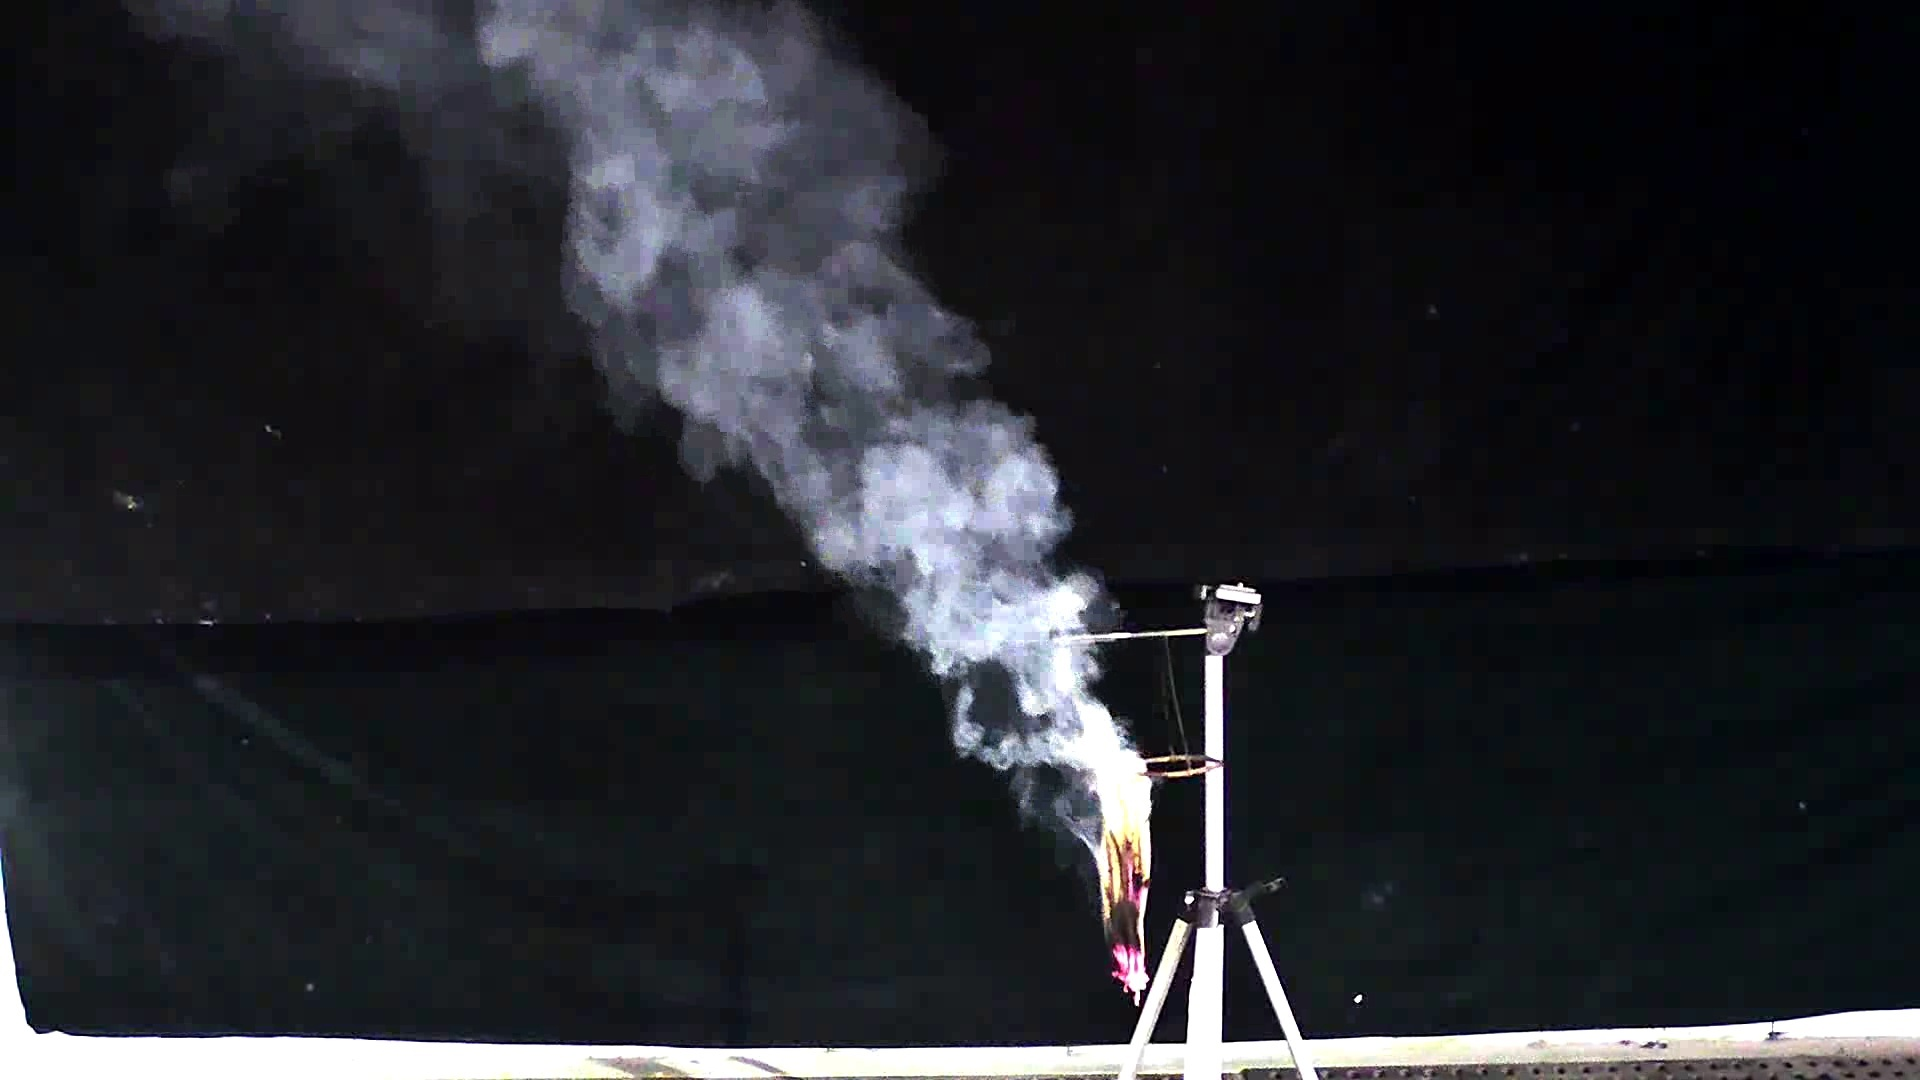smoke: (458, 7, 1098, 753)
